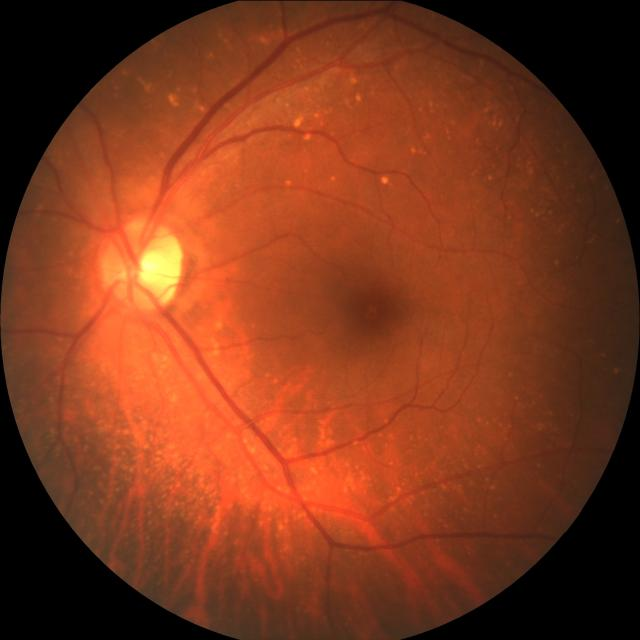OC: (125, 246, 171, 288)
OD: (100, 218, 184, 310)
